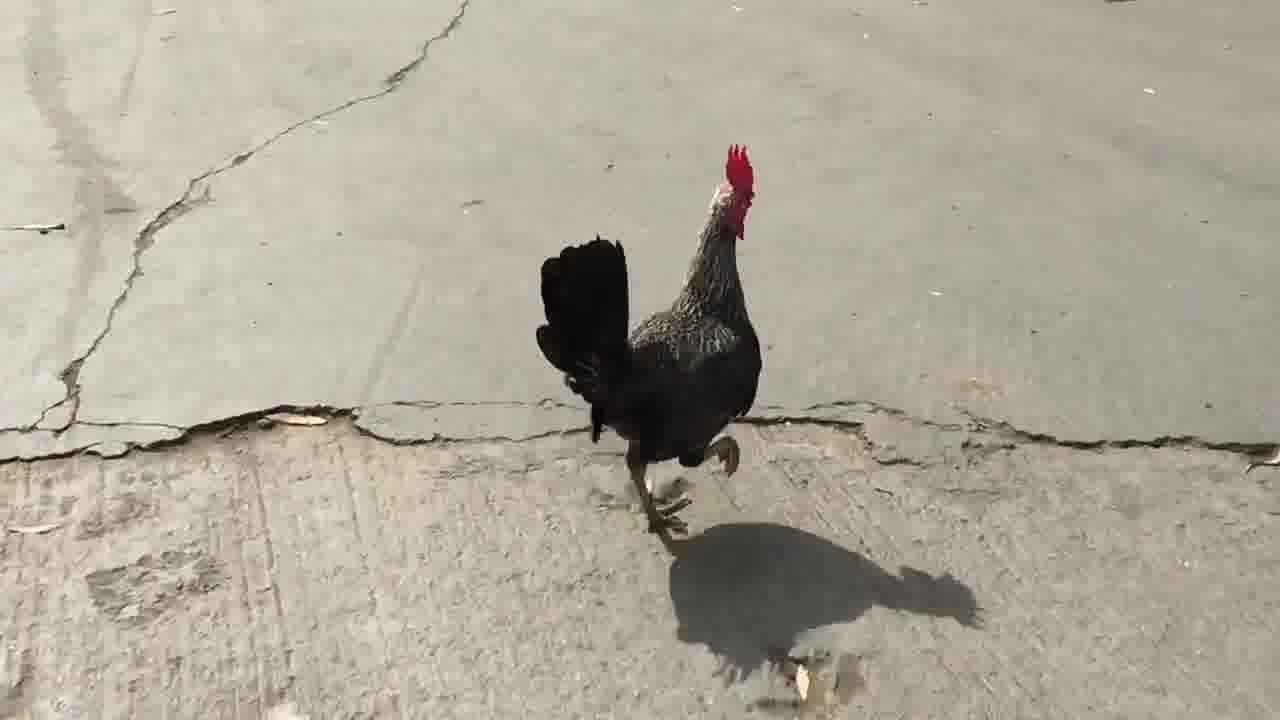Normal: (536, 142, 808, 552)
